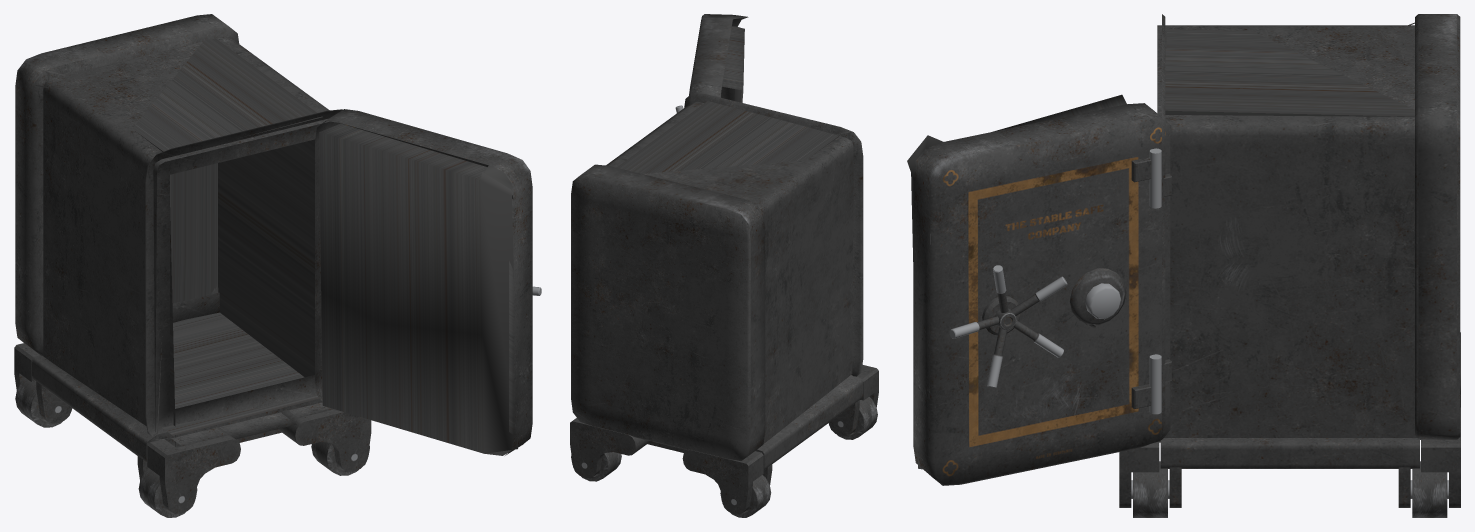
Rendered from antique_iron_safe_open.glb.
The picture shows the model from 3 angles, left to right: view 1: azimuth 30°, elevation 25°; view 2: azimuth 150°, elevation 25°; view 3: azimuth 270°, elevation 25°; orthographic projection. The views are drawn at different scales.
Visible parts, largest first — view 1: Safe_LP_M_SafeFrontPanel_0.054; view 2: Safe_LP_M_SafeFrontPanel_0.054; view 3: Safe_LP_M_SafeFrontPanel_0.054.
Part boxes in pixels (box(x1,y1,x2,y2)): Safe_LP_M_SafeFrontPanel_0.054: box(14, 14, 541, 517); Safe_LP_M_SafeFrontPanel_0.054: box(570, 14, 878, 517); Safe_LP_M_SafeFrontPanel_0.054: box(907, 14, 1460, 517).
Size of the model in its own units: 0.8899 by 0.9845 by 1.22.
Materials: 1 (1 with a texture image).
